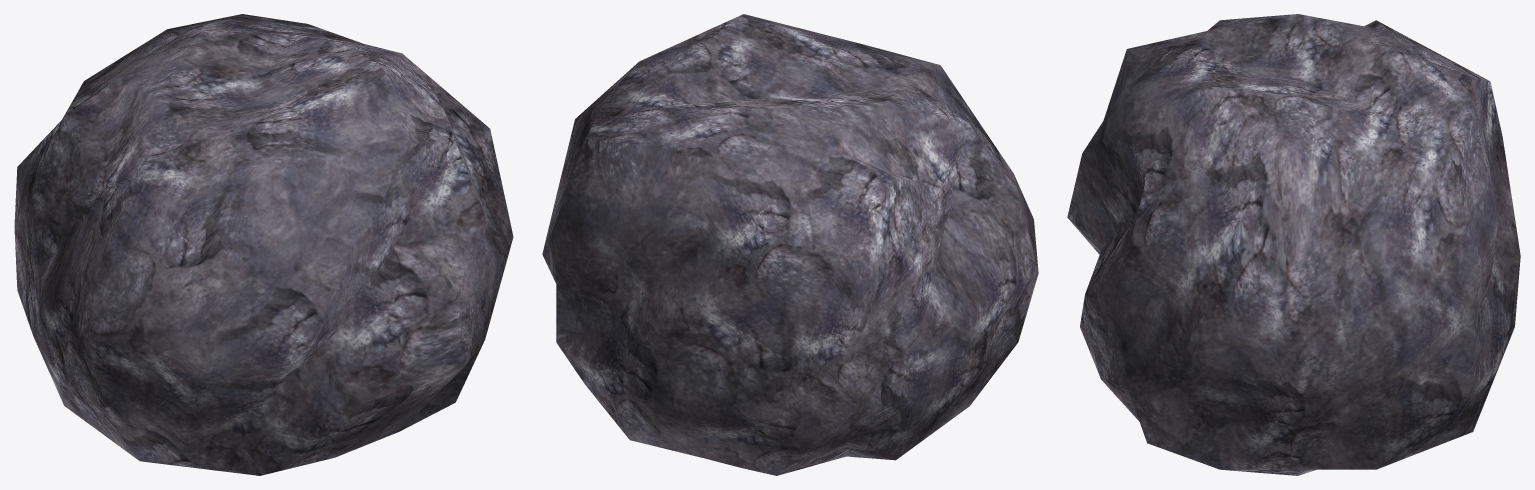
File: Meteor2.fbx
3 views of the same model, side by side, from view 1: azimuth 30°, elevation 25°; view 2: azimuth 150°, elevation 25°; view 3: azimuth 270°, elevation 25° (orthographic). The views are drawn at different scales.
Parts seen in each view (by area): view 1: pCube2; view 2: pCube2; view 3: pCube2.
Boxes of the visible parts, <box> form: pCube2: <box>14,14,513,475</box>; pCube2: <box>542,14,1038,475</box>; pCube2: <box>1067,14,1520,475</box>.
Size of the model in its own units: 147 by 118 by 125.
1 material, 1 textured.
